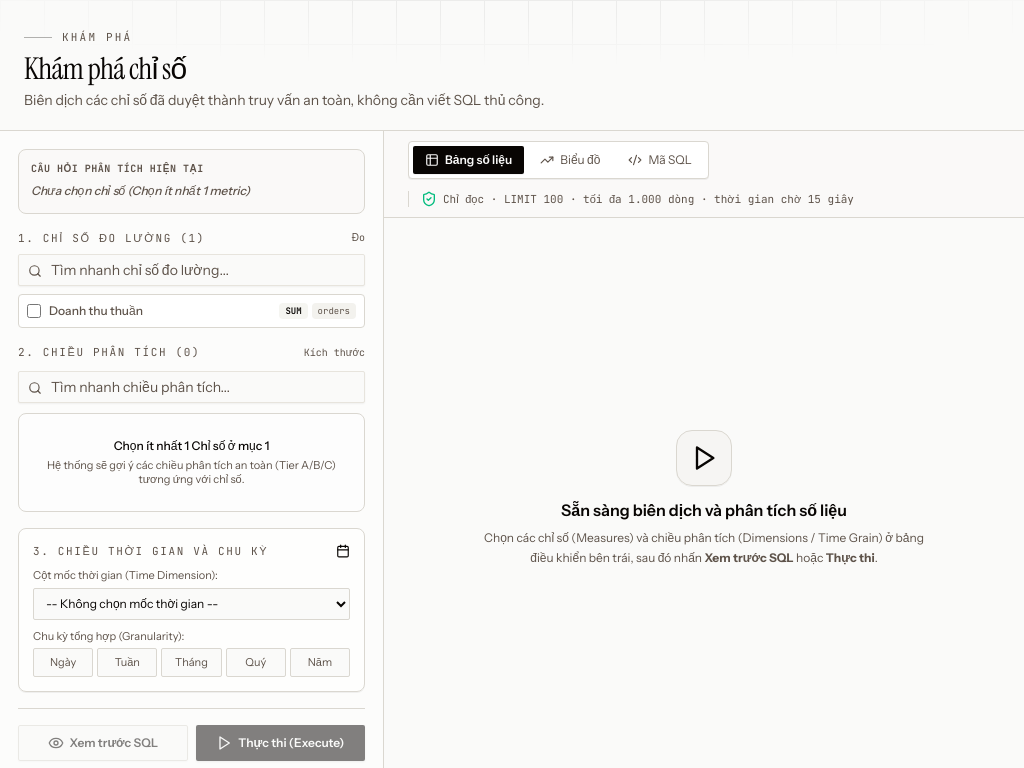
MetricExplorerView › renders prompt when no metric is selected, and reveals relevant scoped dimensions upon selecting a metric
Expected: the text "Chọn ít nhất 1 Chỉ số ở mục 1" is shown, top-left (114, 438), bottom-right (269, 453)
# Select metric
Click the checkbox labelled "Doanh thu thuần SUM orders" at (34, 311), box top-left (27, 304), bottom-right (41, 318)
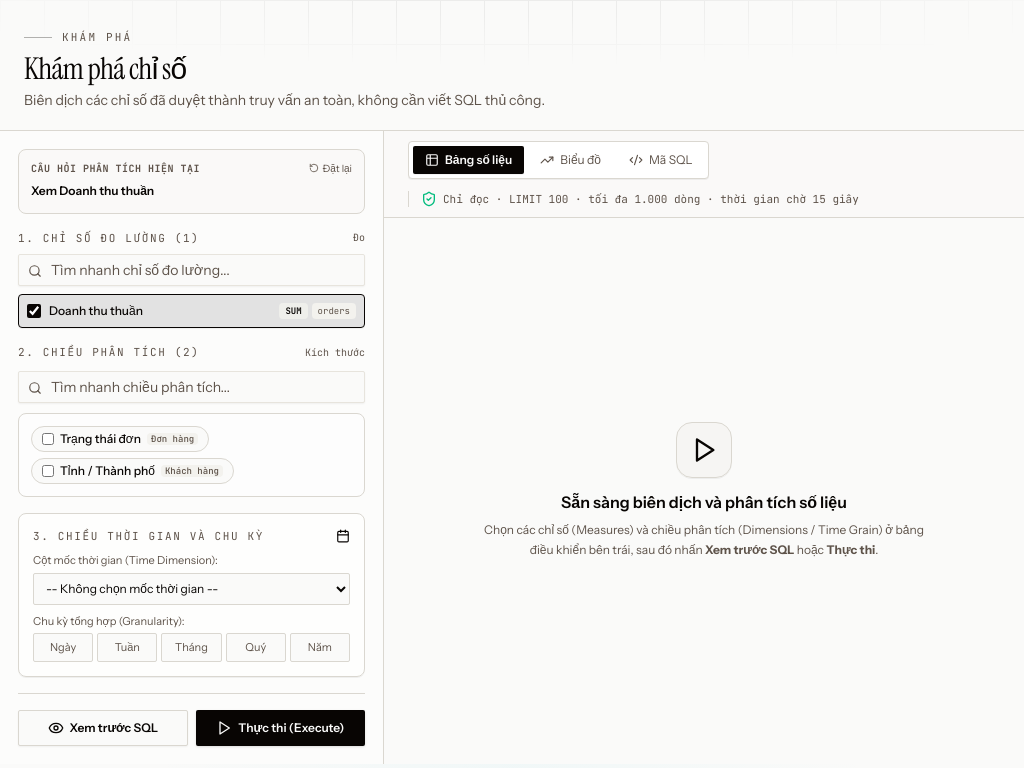
Result: the text "Trạng thái đơn" is shown at top-left (60, 431), bottom-right (141, 447)
Result: the text "Tỉnh / Thành phố" is shown at top-left (60, 463), bottom-right (155, 479)
